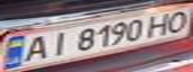0: (124, 16, 151, 42)
1: (93, 21, 115, 48)
8: (75, 25, 96, 52)
9: (109, 19, 130, 46)
A: (15, 33, 54, 64)
H: (142, 10, 175, 38)
I: (42, 29, 72, 57)
O: (160, 7, 193, 34)
